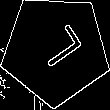L_SW: (28, 23, 84, 77)
